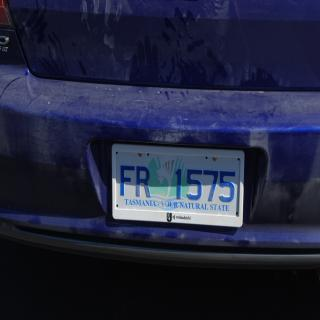license: (108, 145, 246, 241)
